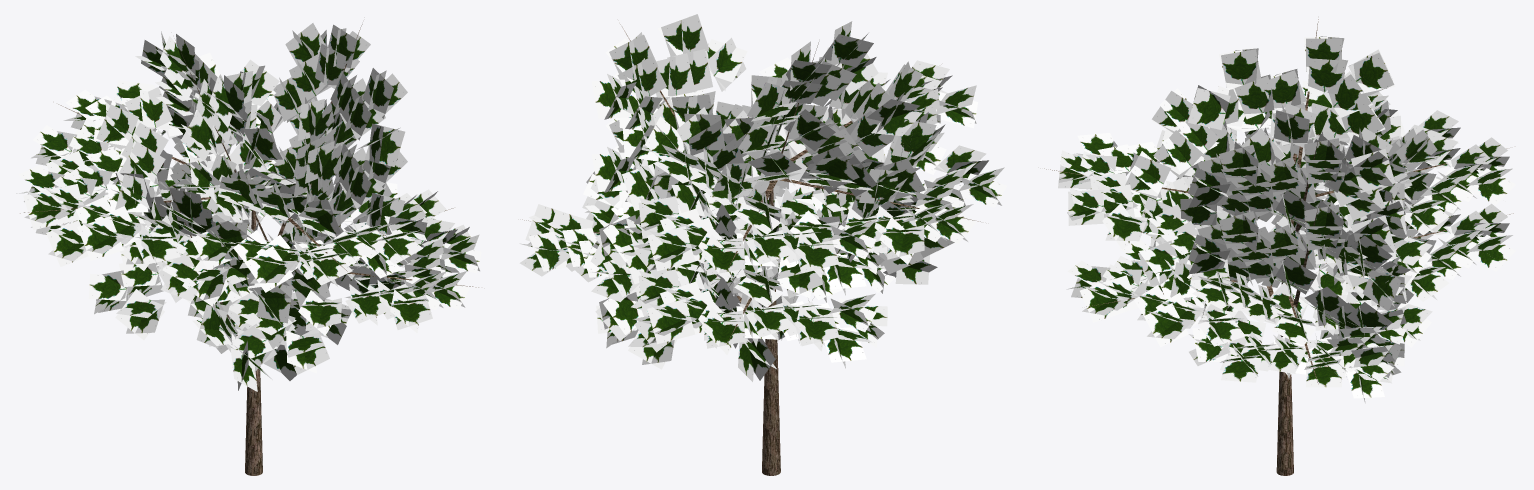
Rendered from Arbol.dae.
3 views of the same model, side by side, from view 1: azimuth 30°, elevation 25°; view 2: azimuth 150°, elevation 25°; view 3: azimuth 270°, elevation 25° (orthographic). The views are drawn at different scales.
Parts seen in each view (by area): view 1: Component_1 (×60), group_0; view 2: Component_1 (×70), group_0; view 3: Component_1 (×63), group_0.
Boxes of the visible parts, x1=… form: Component_1 (×60): x1=18, y1=23, x2=469, y2=391; group_0: x1=245, y1=210, x2=262, y2=475; Component_1 (×70): x1=525, y1=14, x2=1006, y2=380; group_0: x1=762, y1=181, x2=780, y2=475; Component_1 (×63): x1=1058, y1=38, x2=1515, y2=398; group_0: x1=1276, y1=215, x2=1293, y2=475.
Size of the model in its own units: 100 by 97.65 by 95.25.
2 materials, 2 textured.
